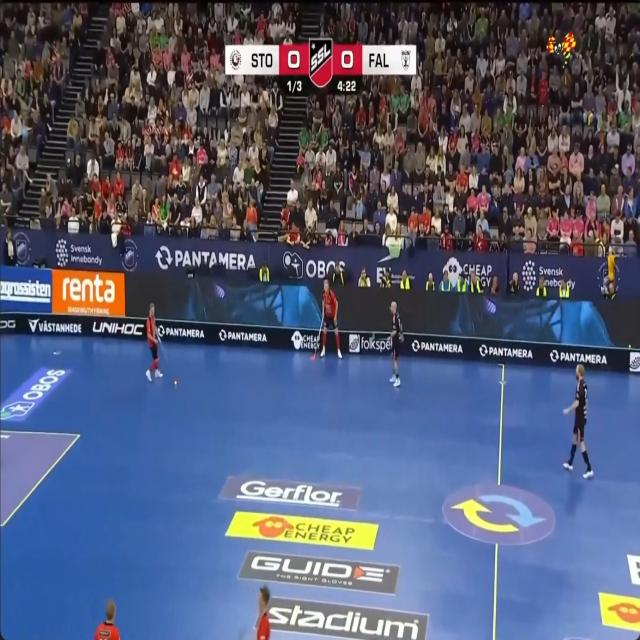Balls: (173, 379, 177, 385)
player: (563, 363, 592, 477), (320, 279, 342, 358), (146, 304, 162, 380), (390, 301, 403, 387), (95, 600, 120, 639), (256, 585, 270, 639)
stick: (311, 323, 323, 358), (156, 336, 167, 360), (321, 306, 324, 317)
